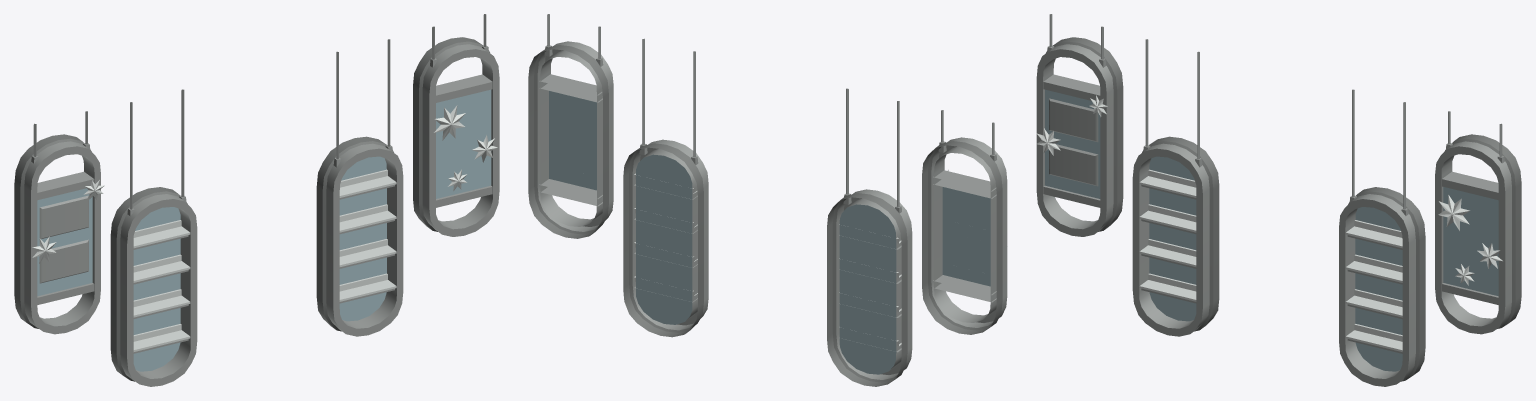
3 renders of one model, left to right at view 1: azimuth 30°, elevation 25°; view 2: azimuth 150°, elevation 25°; view 3: azimuth 330°, elevation 25°, orthographic.
Visible parts, largest first — view 1: G:\FFXIV-MapTools\exports\u5f1\bg\ex4\04_uvs_u5\fld\u5f1\bgp (×4); view 2: G:\FFXIV-MapTools\exports\u5f1\bg\ex4\04_uvs_u5\fld\u5f1\bgp (×3); view 3: G:\FFXIV-MapTools\exports\u5f1\bg\ex4\04_uvs_u5\fld\u5f1\bgp (×4).
Boxes of the visible parts, x1,y1,x2,y2 form: G:\FFXIV-MapTools\exports\u5f1\bg\ex4\04_uvs_u5\fld\u5f1\bgp (×4): [14, 14, 499, 386]; G:\FFXIV-MapTools\exports\u5f1\bg\ex4\04_uvs_u5\fld\u5f1\bgp (×3): [528, 14, 1007, 386]; G:\FFXIV-MapTools\exports\u5f1\bg\ex4\04_uvs_u5\fld\u5f1\bgp (×4): [1036, 14, 1521, 386].
Size of the model in its own units: 13.41 by 7.81 by 0.7903.
